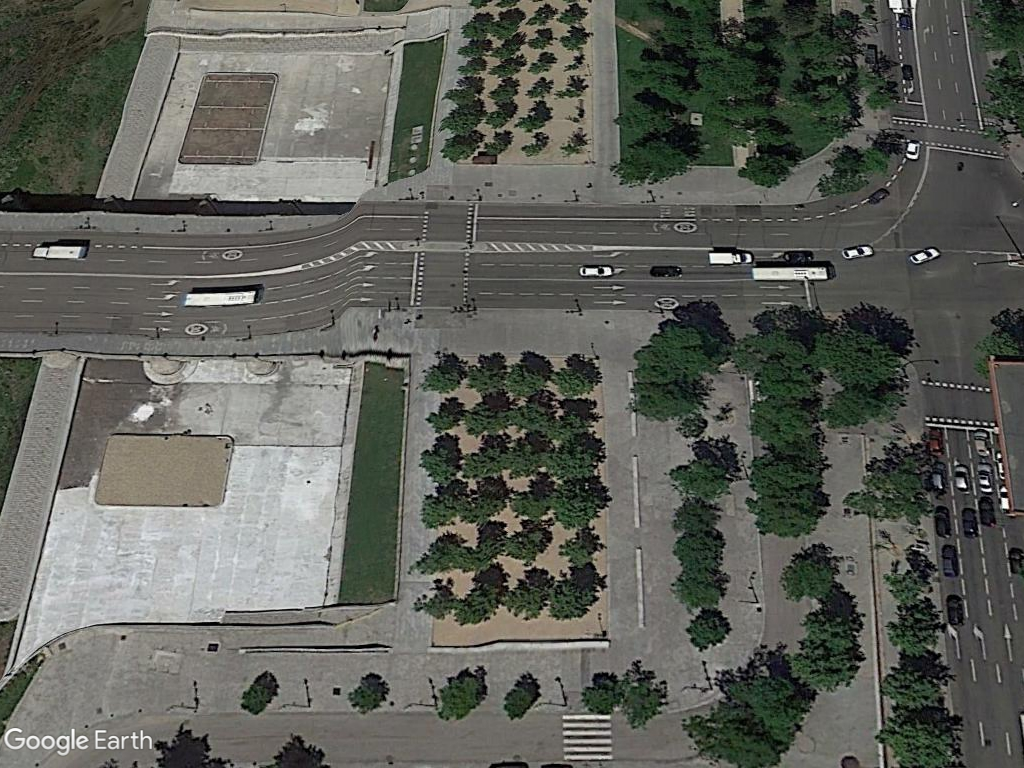bus: (181, 286, 259, 309)
car: (933, 501, 956, 542), (906, 242, 945, 266), (942, 592, 968, 628), (951, 458, 974, 497), (575, 261, 618, 280), (940, 544, 962, 581), (959, 503, 980, 540), (838, 241, 876, 261), (975, 460, 996, 496), (971, 426, 993, 460)
truck: (748, 263, 836, 283), (30, 241, 91, 263), (704, 247, 756, 267)
